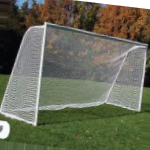goals: (1, 19, 149, 125)
